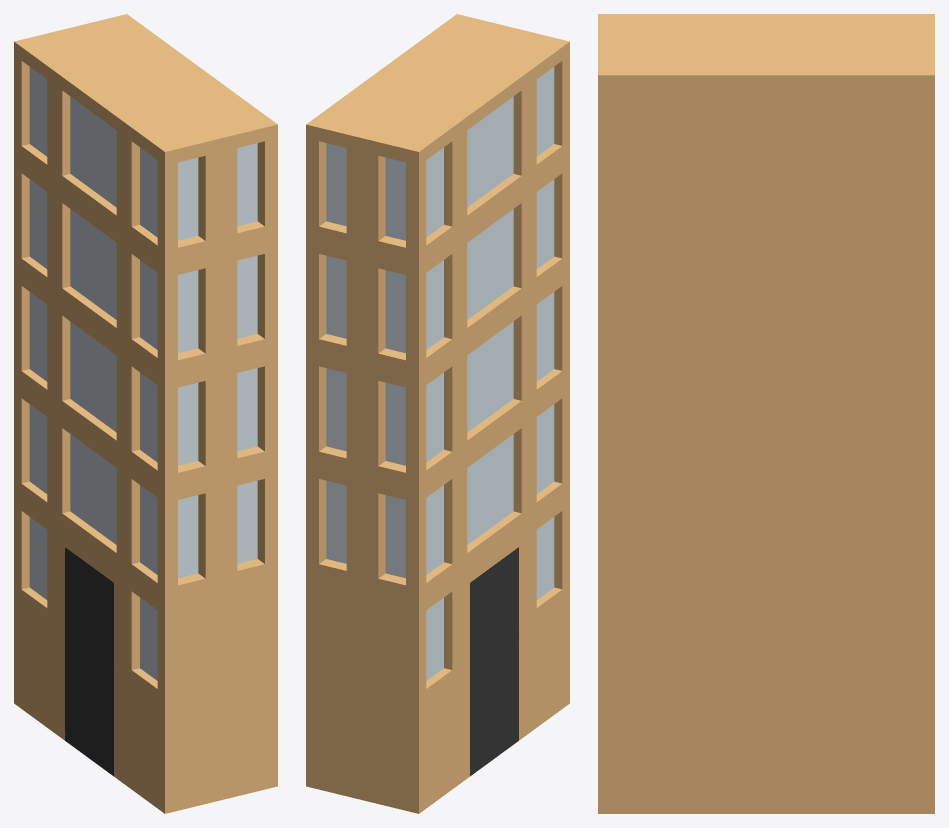
The model's file is APPARTEMENT.FBX.
The picture shows the model from 3 angles, left to right: view 1: azimuth 30°, elevation 25°; view 2: azimuth 150°, elevation 25°; view 3: azimuth 270°, elevation 25°; orthographic projection. The views are drawn at different scales.
Visible parts, largest first — view 1: appartement; view 2: appartement; view 3: appartement.
Boxes of the visible parts, x1,y1,x2,y2 form: appartement: (14,14,277,813); appartement: (306,14,569,813); appartement: (598,14,934,813).
Bounding box in the file's own units: 1941 × 10874 × 4496.
